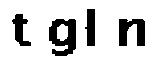g: (47, 14, 79, 60)
l: (83, 5, 105, 50)
n: (114, 13, 149, 51)
t: (6, 9, 33, 52)
